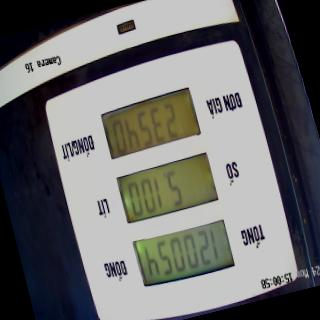screen: (96, 80, 239, 294)
